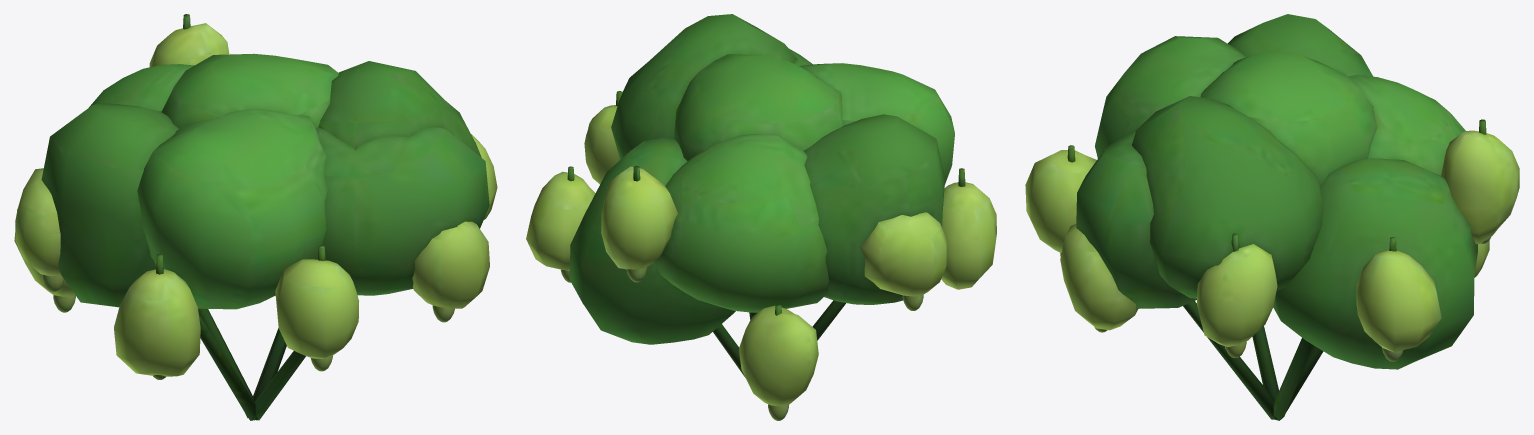
File: crop_tomatillo.glb
The picture shows the model from 3 angles, left to right: view 1: azimuth 30°, elevation 25°; view 2: azimuth 150°, elevation 25°; view 3: azimuth 270°, elevation 25°; orthographic projection. The views are drawn at different scales.
Parts seen in each view (by area): view 1: crop_tomatillo, fruit; view 2: crop_tomatillo, fruit; view 3: crop_tomatillo, fruit.
Part boxes in pixels (x1=…): crop_tomatillo: x1=41, y1=14, x2=489, y2=420; fruit: x1=14, y1=23, x2=497, y2=379; crop_tomatillo: x1=567, y1=14, x2=965, y2=377; fruit: x1=526, y1=105, x2=996, y2=420; crop_tomatillo: x1=1067, y1=14, x2=1486, y2=420; fruit: x1=1025, y1=130, x2=1519, y2=361.
Bounding box in the file's own units: 0.2551 × 0.2061 × 0.2591.
1 material, 1 textured.
